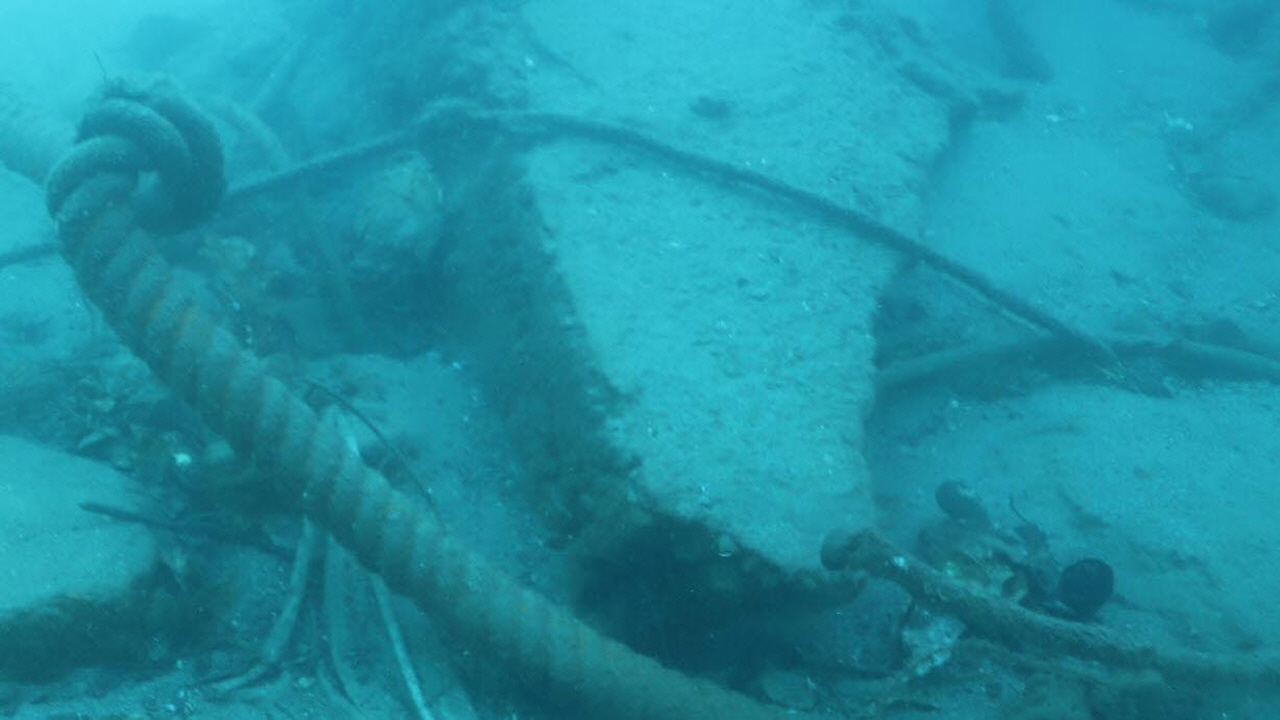rope: (1, 70, 808, 720), (0, 93, 1135, 376), (867, 535, 1280, 684)
